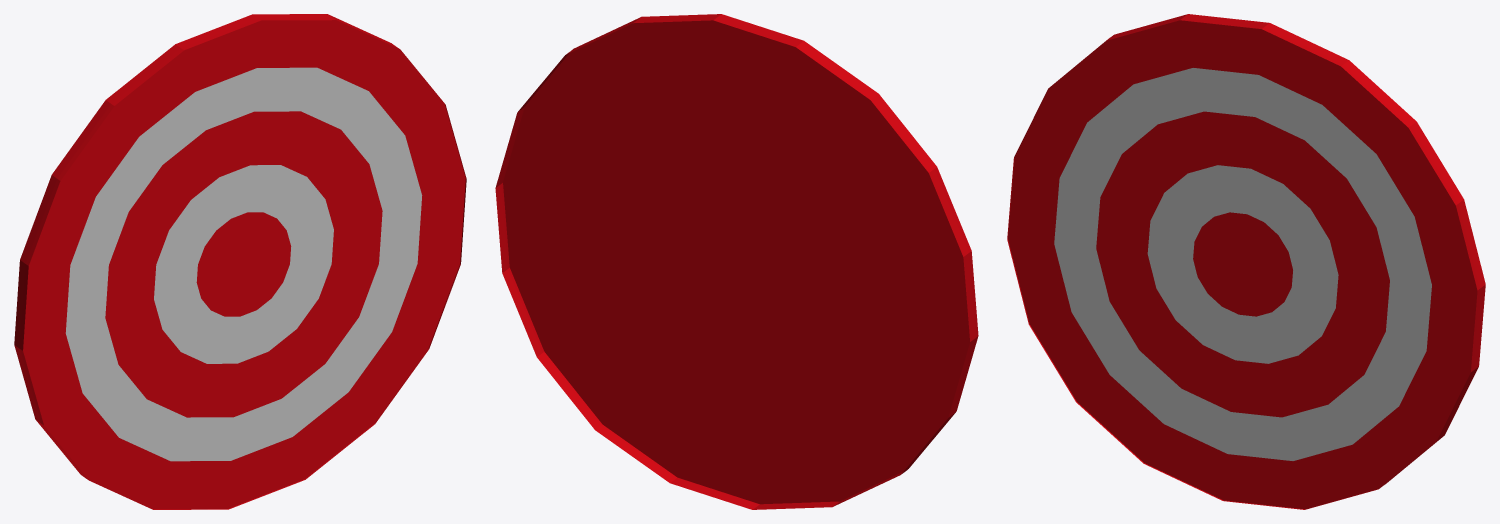
File: target2.fbx
3 views of the same model, side by side, from view 1: azimuth 30°, elevation 25°; view 2: azimuth 150°, elevation 25°; view 3: azimuth 330°, elevation 25° (orthographic).
Parts seen in each view (by area): view 1: Cylinder.001; view 2: Cylinder.001; view 3: Cylinder.001.
Part boxes in pixels (bbox=[...]): Cylinder.001: bbox=[14, 14, 466, 509]; Cylinder.001: bbox=[495, 14, 978, 509]; Cylinder.001: bbox=[1007, 14, 1485, 509].
Bounding box in the file's own units: 91.94 × 91.92 × 7.58.
